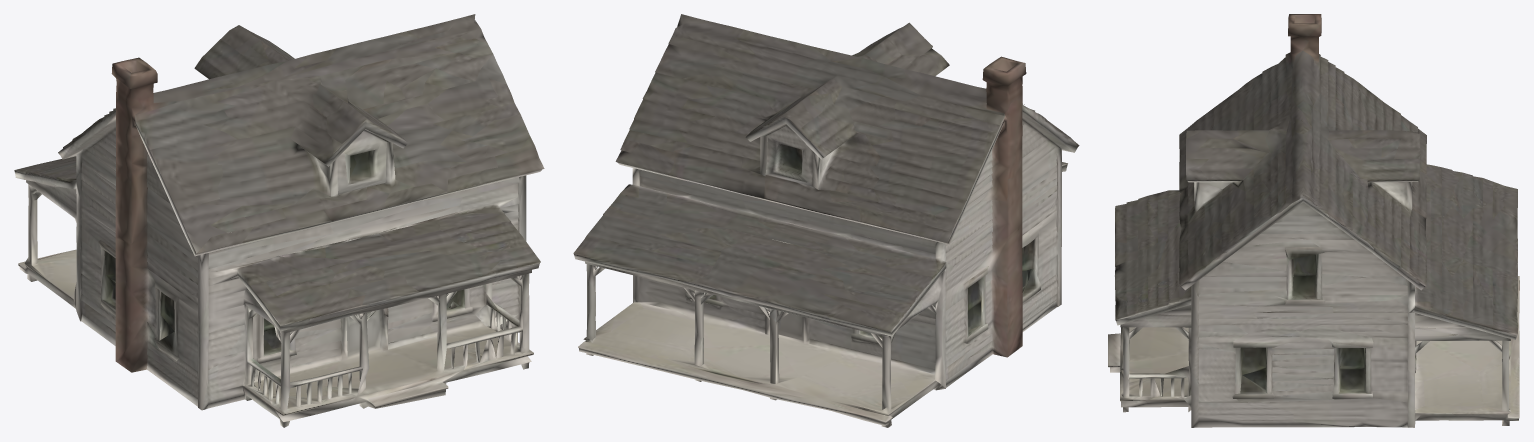
File: farmhouse_clapboard.glb
The picture shows the model from 3 angles, left to right: view 1: azimuth 30°, elevation 25°; view 2: azimuth 150°, elevation 25°; view 3: azimuth 270°, elevation 25°; orthographic projection. The views are drawn at different scales.
Parts seen in each view (by area): view 1: tripo_node_02989b72-baf6-4600-bc2e-6919fc2c109b; view 2: tripo_node_02989b72-baf6-4600-bc2e-6919fc2c109b; view 3: tripo_node_02989b72-baf6-4600-bc2e-6919fc2c109b.
Boxes of the visible parts, x1,y1,x2,y2 form: tripo_node_02989b72-baf6-4600-bc2e-6919fc2c109b: [14, 14, 544, 427]; tripo_node_02989b72-baf6-4600-bc2e-6919fc2c109b: [573, 14, 1079, 427]; tripo_node_02989b72-baf6-4600-bc2e-6919fc2c109b: [1108, 14, 1519, 427].
Size of the model in its own units: 0.867 by 0.699 by 0.9807.
Materials: 1 (1 with a texture image).
